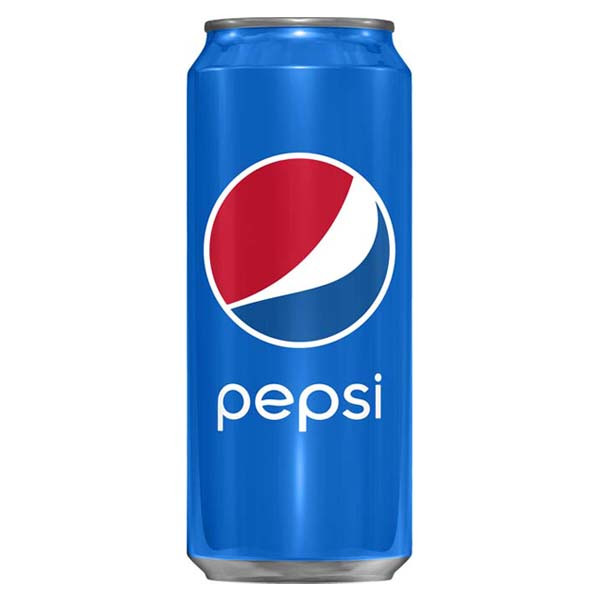pepsi: (199, 148, 394, 347)
